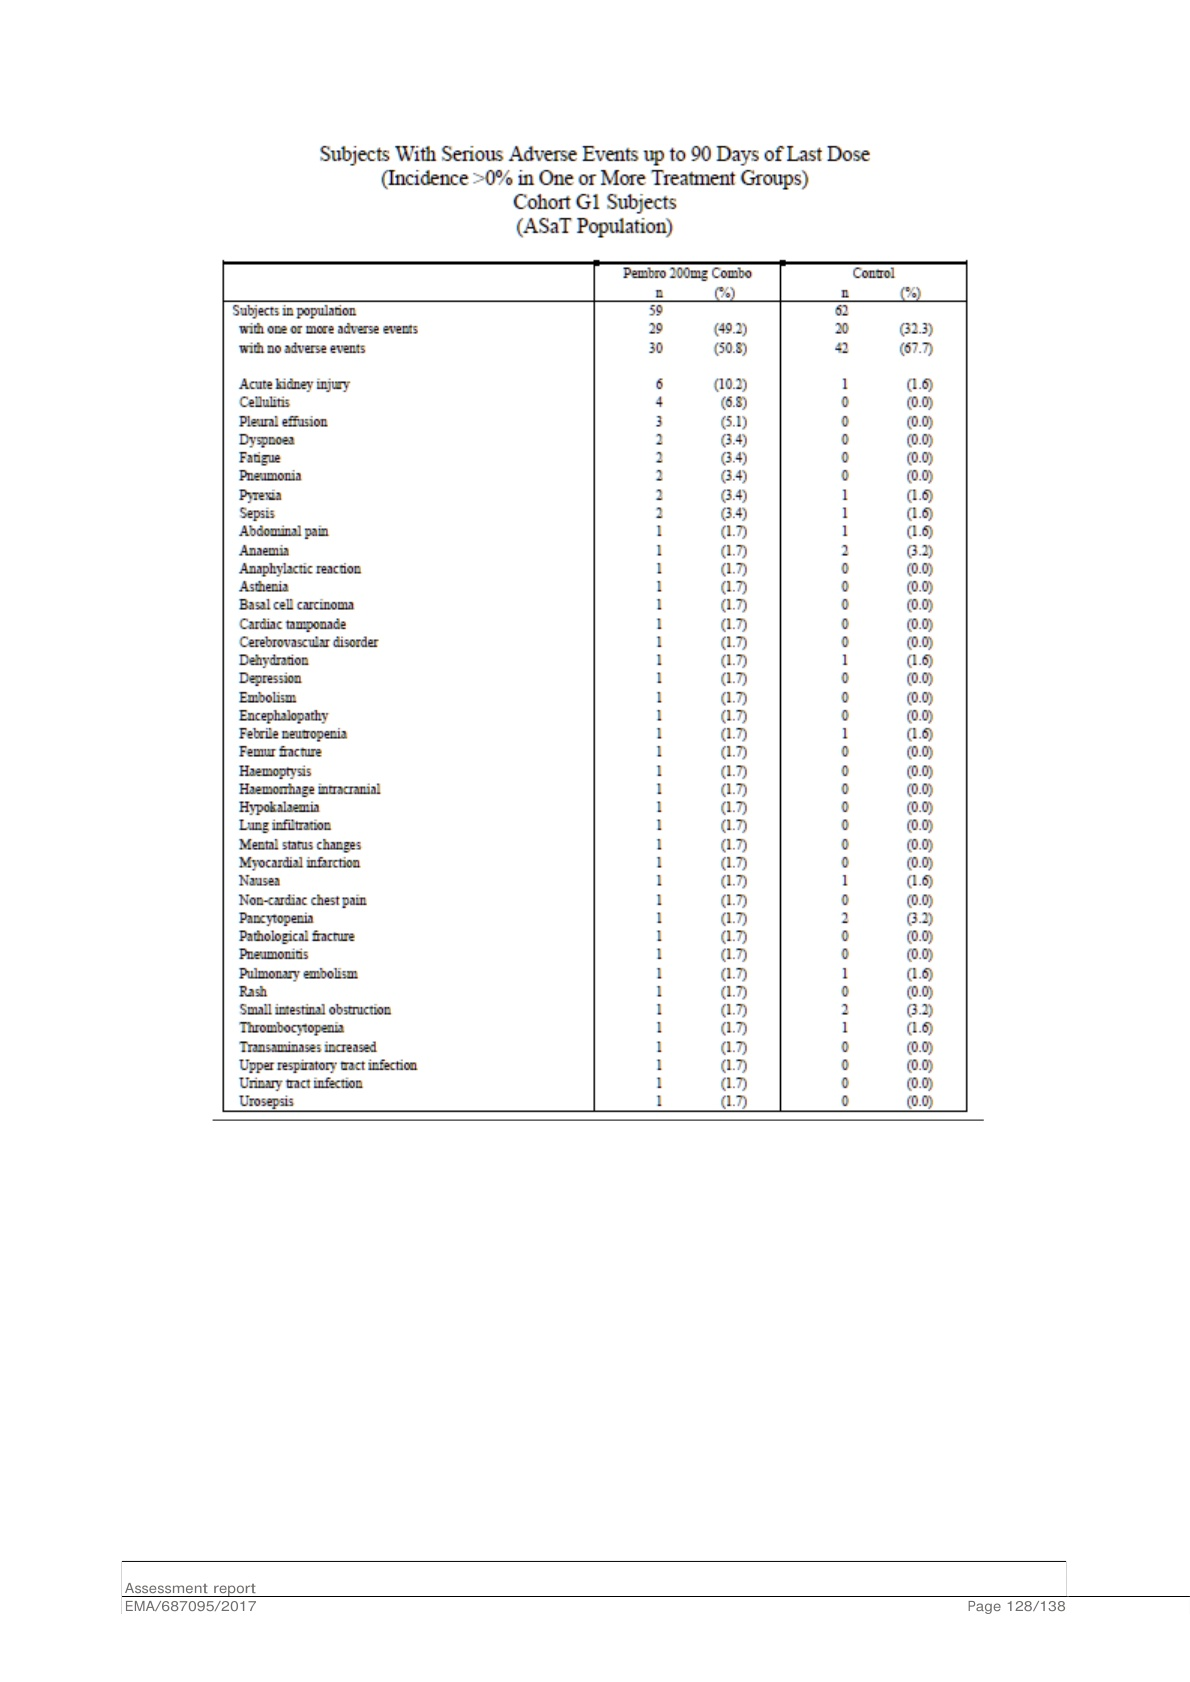partial_lined_merged_cells: (222, 260, 968, 1114)
